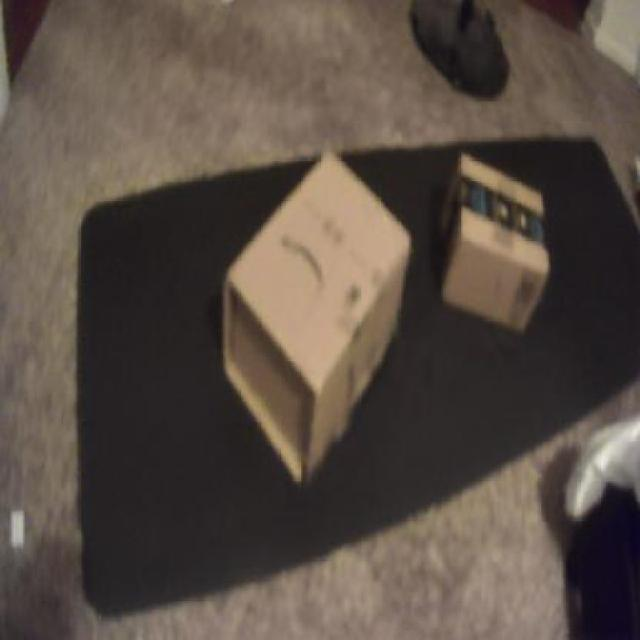cardboxes: (218, 144, 414, 498), (429, 152, 554, 340)
